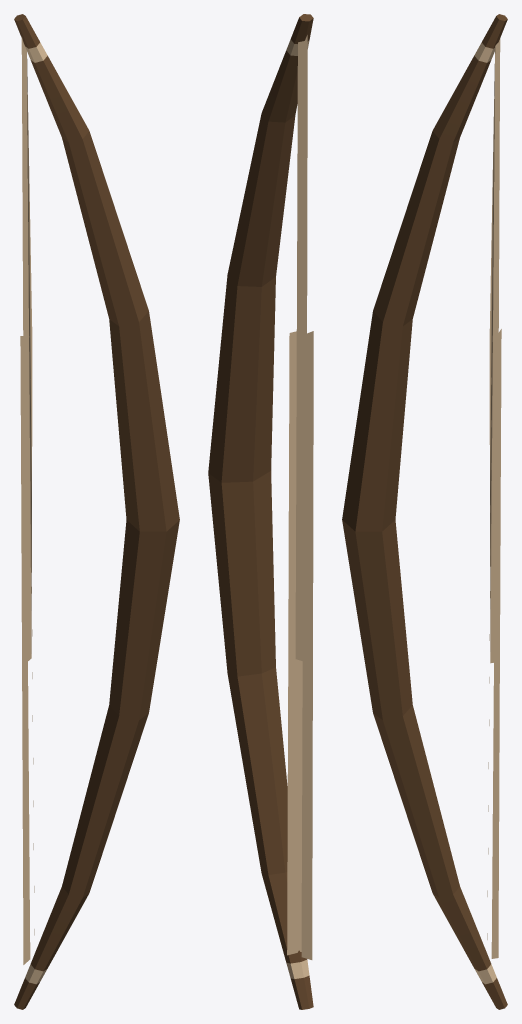
The model's file is bow.obj.
3 views of the same model, side by side, from view 1: azimuth 90°, elevation 25°; view 2: azimuth 210°, elevation 25°; view 3: azimuth 270°, elevation 25° (orthographic).
Parts seen in each view (by area): view 1: bow, bow.001; view 2: bow, bow.001; view 3: bow, bow.001.
Part boxes in pixels (box(x1,y1,x2,y2)): bow: box(14, 14, 179, 1009); bow.001: box(21, 36, 32, 660); bow: box(208, 14, 313, 1009); bow.001: box(295, 35, 307, 661); bow: box(342, 14, 507, 1009); bow.001: box(489, 38, 500, 663).
Size of the model in its own units: 0.0612 by 1.17 by 0.1777.
